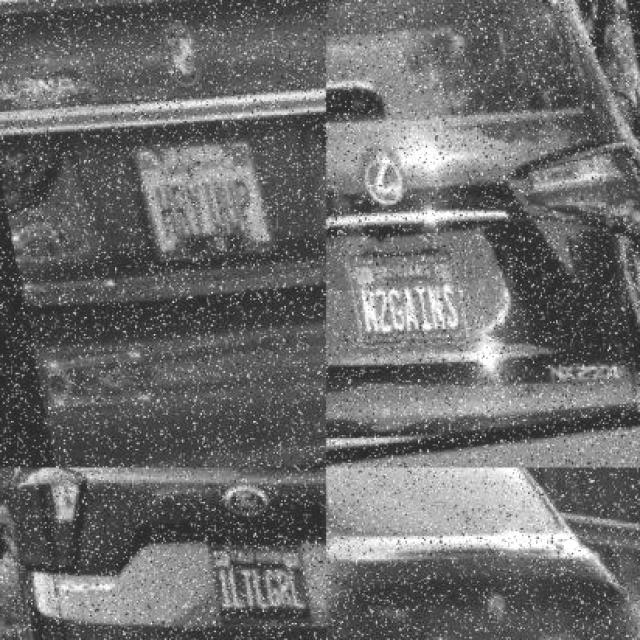licenseplate: (130, 121, 271, 264), (340, 231, 468, 356), (200, 521, 315, 625)
